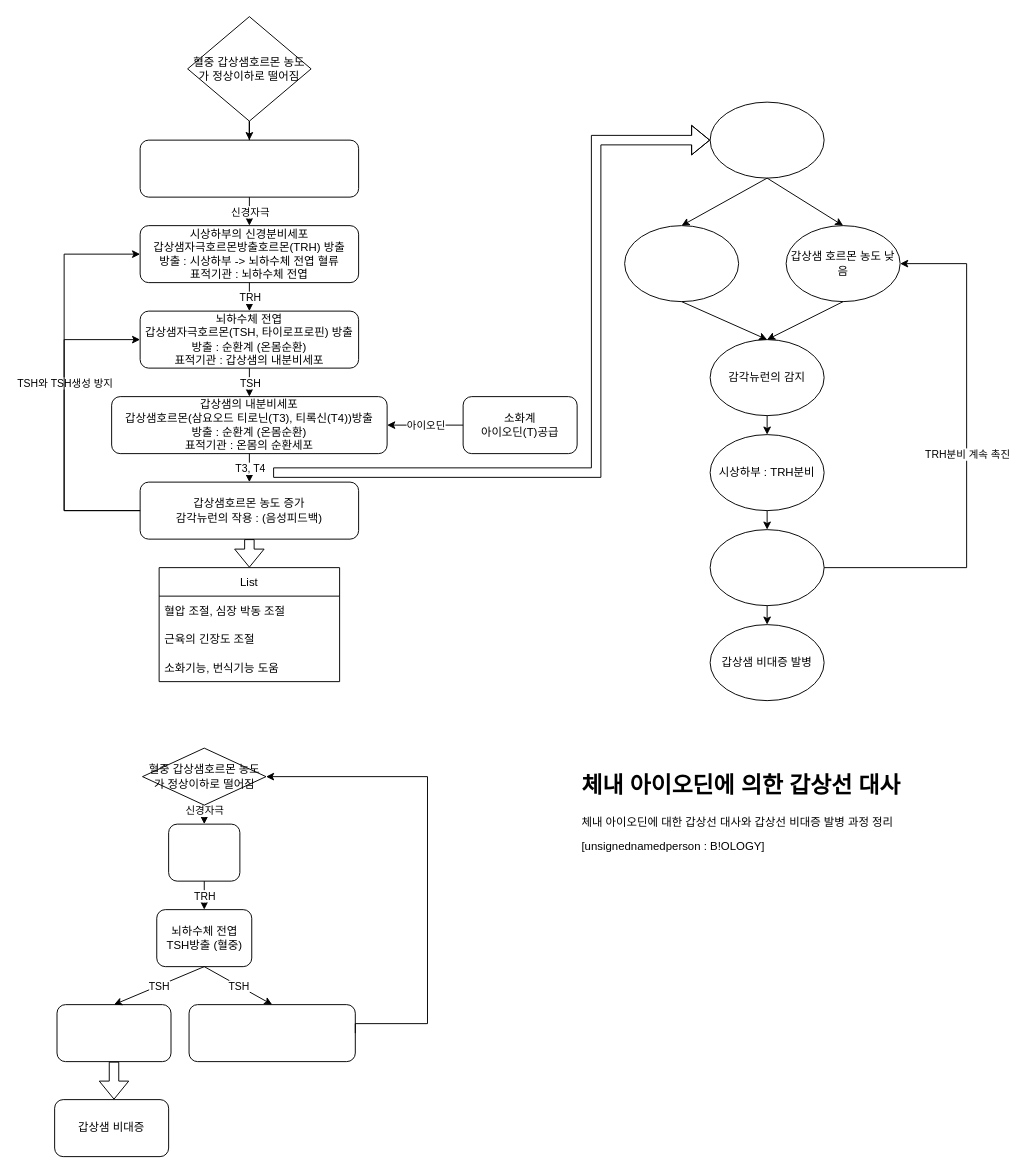
This 1026x1173 diagram has some shape labels left out. Each missing label, with the centre of its shape:
"감각뉴런이 감지 신경자극 방출 표적기관 : 시상하부의 신경분비세포" goes at point (249, 168).
"갑상샘 : TSH의 축적 (양성피드백)" goes at point (766, 567).
"갑상샘 TSH축적" goes at point (113, 1033).
"갑상샘 아이오딘이 없어 갑상샘호르몬 x" goes at point (271, 1033).
"갑상샘 호르몬 분비 x" goes at point (681, 263).
"시상하부 TRH 방출" goes at point (204, 852).
"아이오딘이 부족한 경우 억제되는 구간" goes at point (766, 139).
